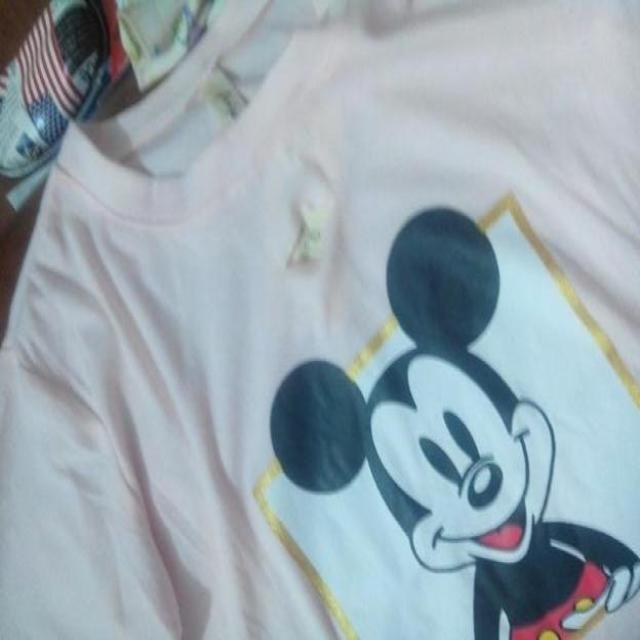short-sleeve-top: (27, 100, 640, 623)
